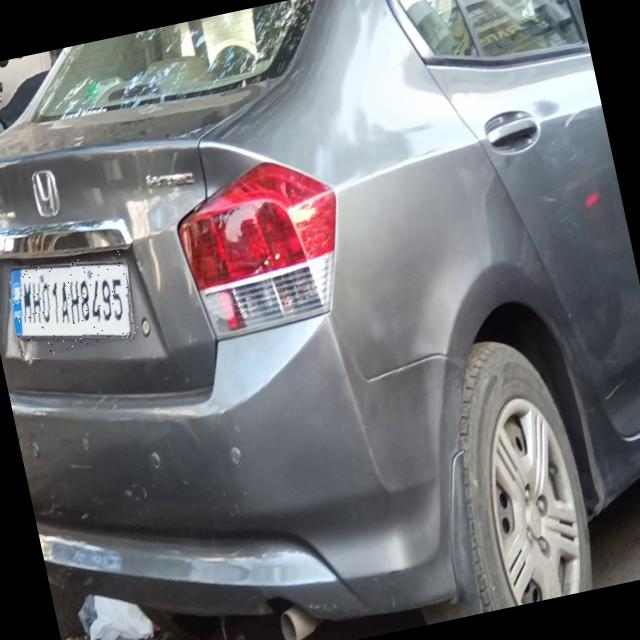Plate: (4, 246, 143, 362)
